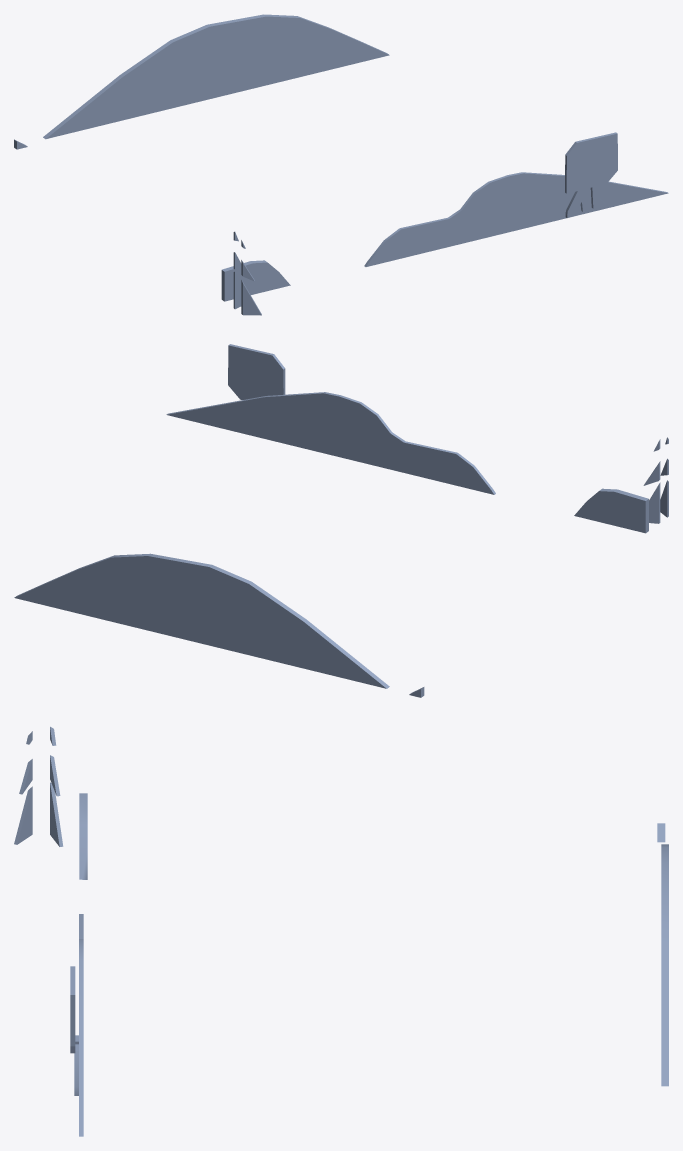
The model's file is frame_0085.glb.
3 views of the same model, one above another, from view 1: azimuth 30°, elevation 25°; view 2: azimuth 150°, elevation 25°; view 3: azimuth 270°, elevation 25° (orthographic). The views are drawn at different scales.
Parts seen in each view (by area): view 1: export_trees_001.002; view 2: export_trees_001.002; view 3: export_trees_001.002.
Boxes of the visible parts, x1=… form: export_trees_001.002: x1=14, y1=14, x2=668, y2=315; export_trees_001.002: x1=14, y1=344, x2=668, y2=697; export_trees_001.002: x1=14, y1=726, x2=668, y2=1136.
Bounding box in the file's own units: 0.3815 × 0.0639 × 0.35.
